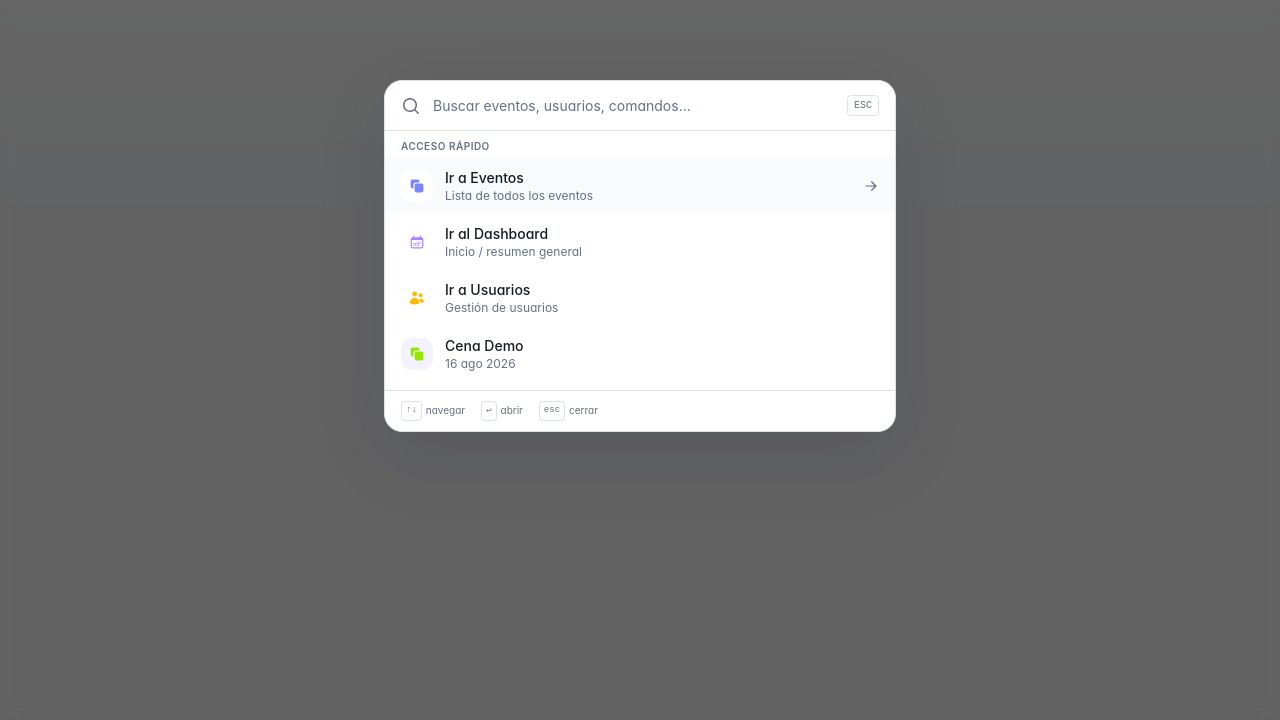
Test: CommandPalette › renders users from the paginated /users/all payload
The width and height of the screenshot is (1280, 720).
Type "ana" into the field with placeholder "Buscar eventos, usuarios, comandos…" at (634,106), box [433,96,835,116]
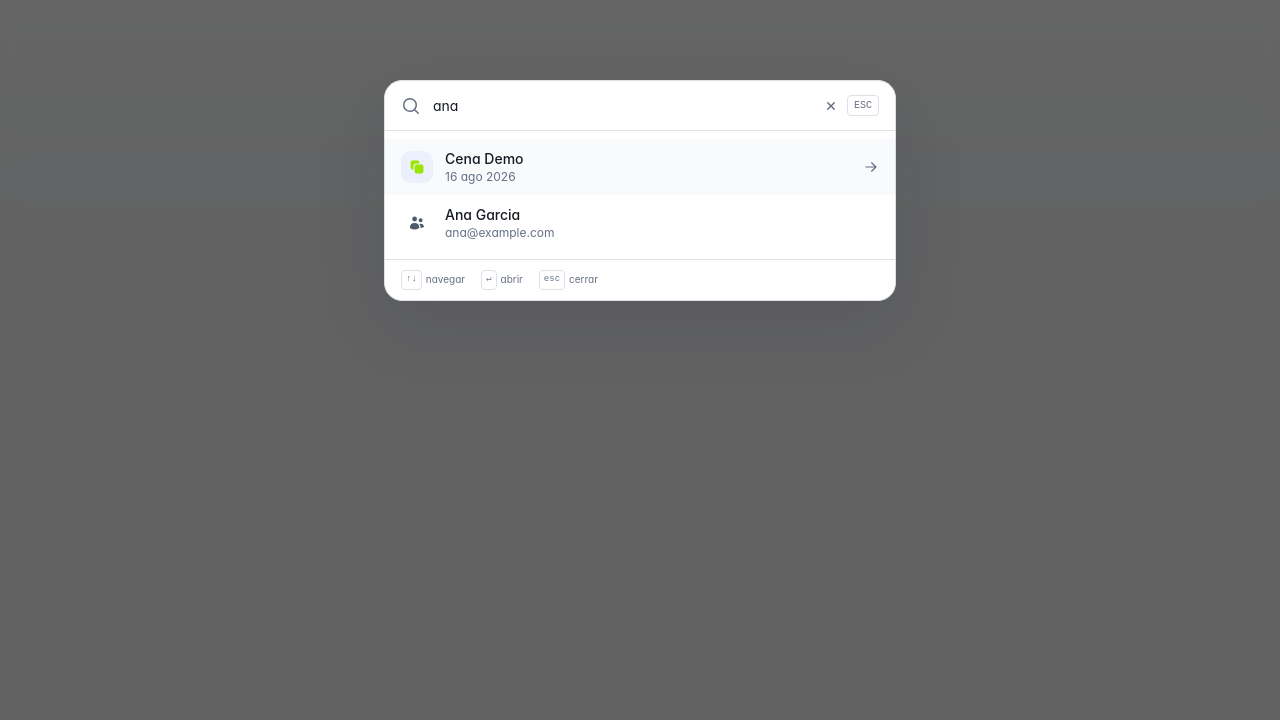
Check: the text "Ana Garcia" is shown, box [445,206,520,223]
Check: the text "ana@example.com" is shown, box [445,225,554,240]
